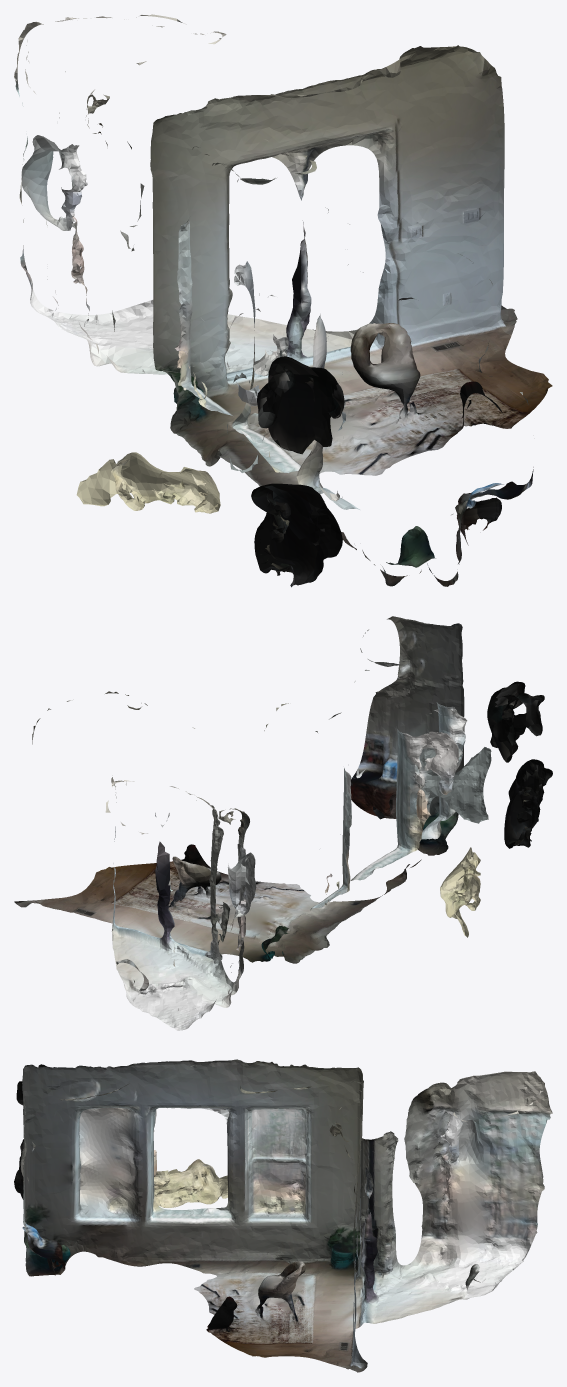
3 renders of one model, top to bottom at view 1: azimuth 30°, elevation 25°; view 2: azimuth 150°, elevation 25°; view 3: azimuth 270°, elevation 25°, orthographic. The views are drawn at different scales.
Bounding box in the file's own units: 5.85 × 3.41 × 7.75.
1 material, 1 textured.
